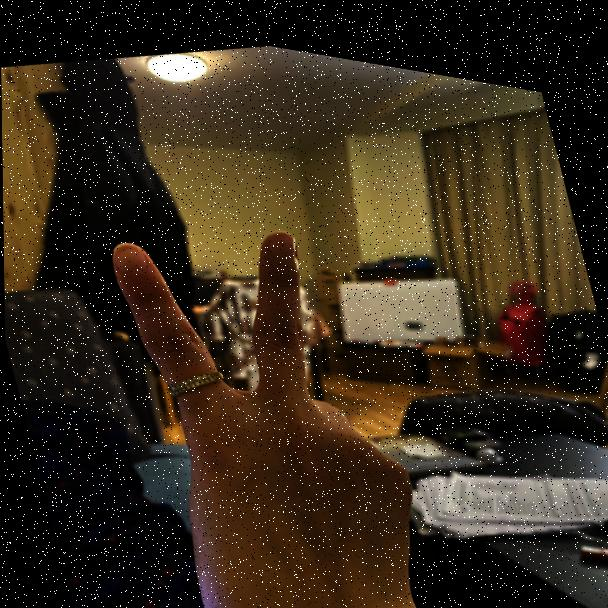two: (77, 152, 470, 608)
